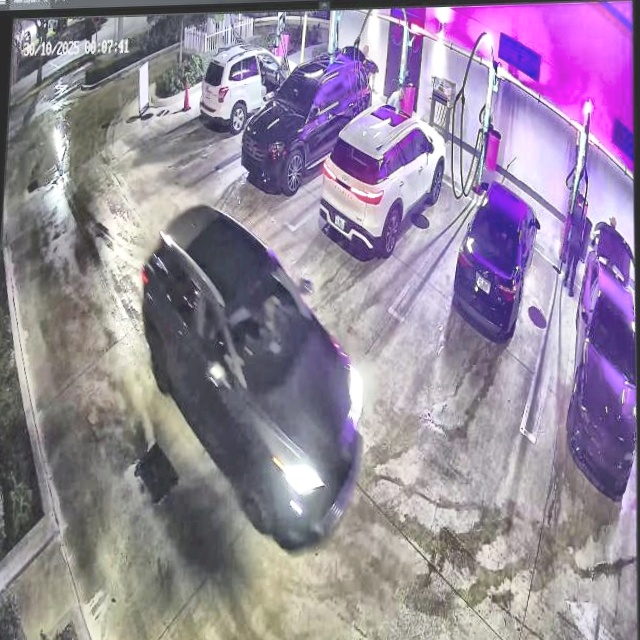Car: (128, 198, 369, 564), (319, 94, 446, 260), (242, 50, 372, 190), (454, 178, 538, 340)
